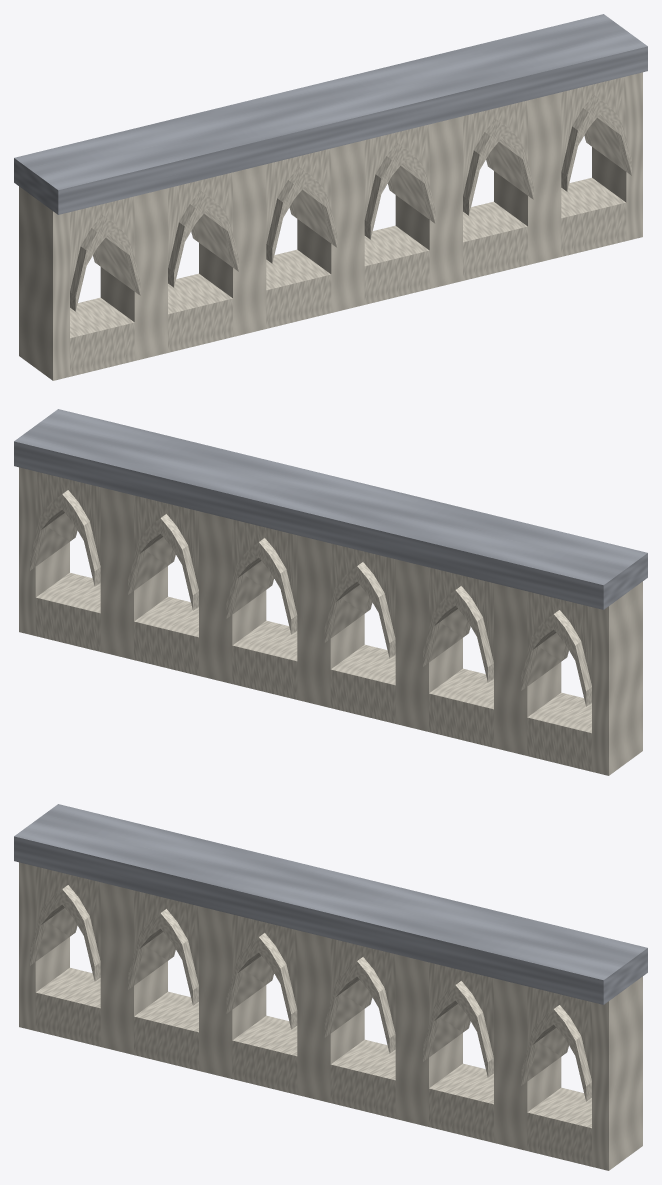
The model's file is vampire-crypt-and-gothic-cathedral-gothic-parapet-d35ca801__22965.glb.
The picture shows the model from 3 angles, top to bottom: view 1: azimuth 30°, elevation 25°; view 2: azimuth 150°, elevation 25°; view 3: azimuth 330°, elevation 25°; orthographic projection.
Parts seen in each view (by area): view 1: gothic-parapet; view 2: gothic-parapet; view 3: gothic-parapet.
Boxes of the visible parts, box(x1,y1,x2,y2) form: gothic-parapet: box(14, 14, 647, 380); gothic-parapet: box(14, 409, 647, 775); gothic-parapet: box(14, 804, 647, 1170).
Bounding box in the file's own units: 4 × 1.26 × 0.5401.
2 materials, 2 textured.
